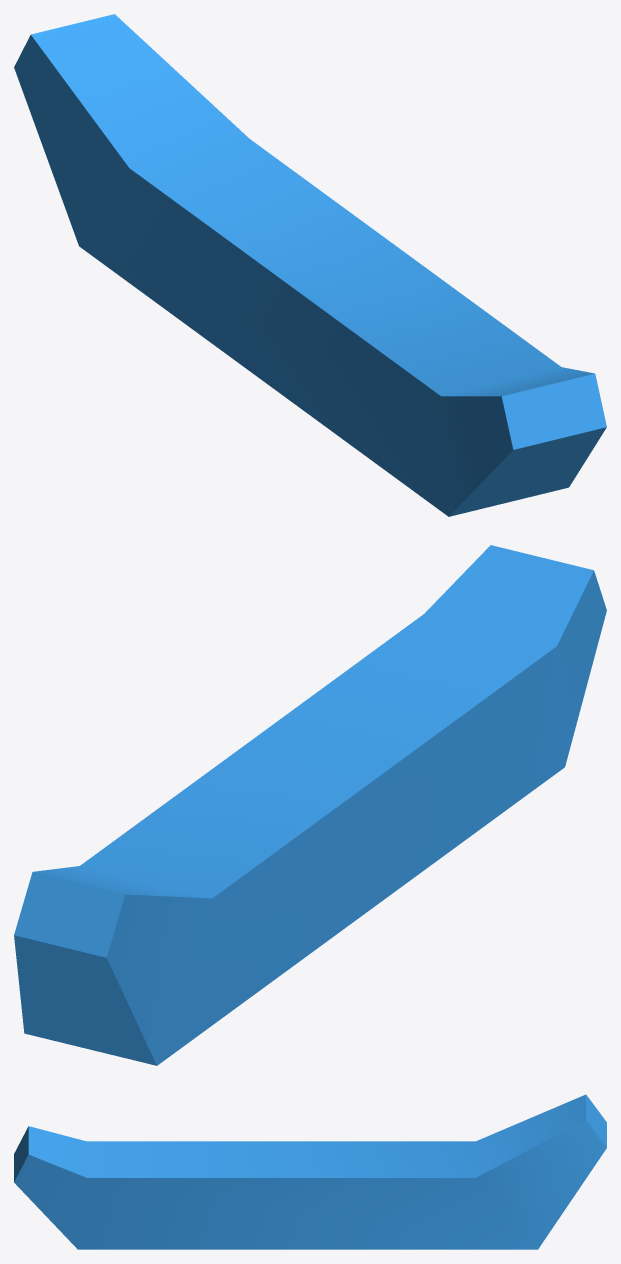
Rendered from Rebar_Wall_09_Col.FBX.
3 views of the same model, one above another, from view 1: azimuth 30°, elevation 25°; view 2: azimuth 150°, elevation 25°; view 3: azimuth 270°, elevation 25° (orthographic). The views are drawn at different scales.
Parts seen in each view (by area): view 1: Rebar_Wall_09_Col; view 2: Rebar_Wall_09_Col; view 3: Rebar_Wall_09_Col.
Part boxes in pixels (bbox=[...]): Rebar_Wall_09_Col: bbox=[14, 14, 606, 516]; Rebar_Wall_09_Col: bbox=[14, 545, 606, 1065]; Rebar_Wall_09_Col: bbox=[14, 1094, 606, 1249].
Size of the model in its own units: 38.95 by 53.22 by 247.
